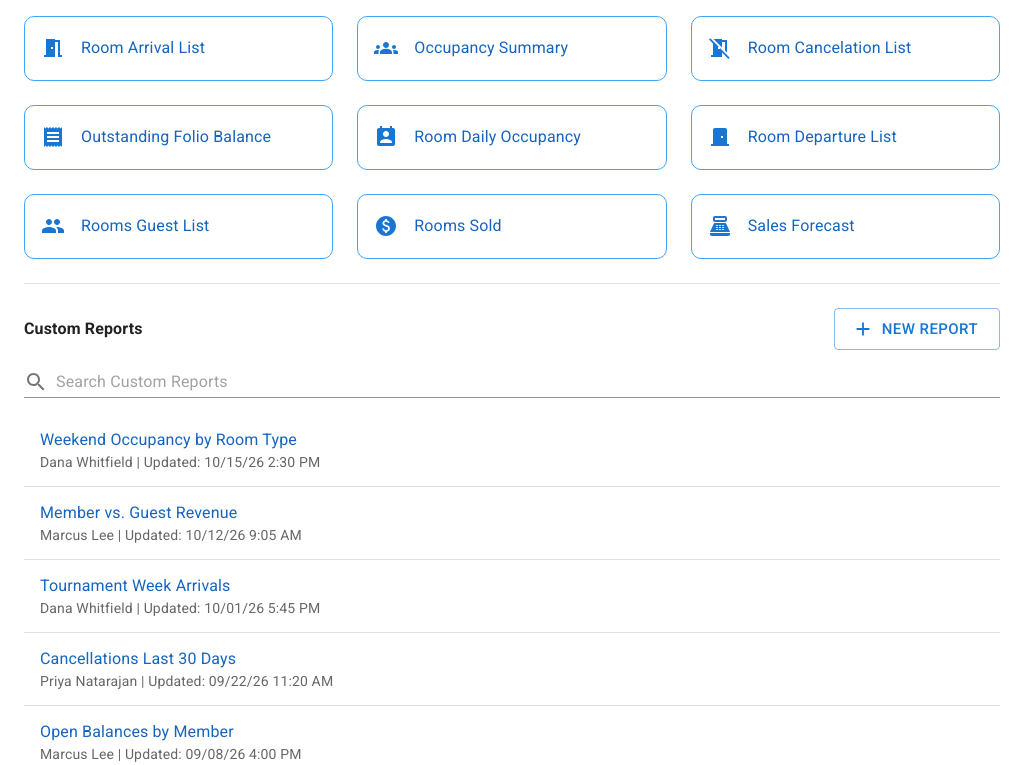
Reporting landing › filters as you type and shows a no-match state
The width and height of the screenshot is (1024, 765).
(page scrolled)
Step 1. Type "cancel" into the field labelled "Search Custom Reports" → (528, 382), box [56,366,1000,398]
(page scrolled)
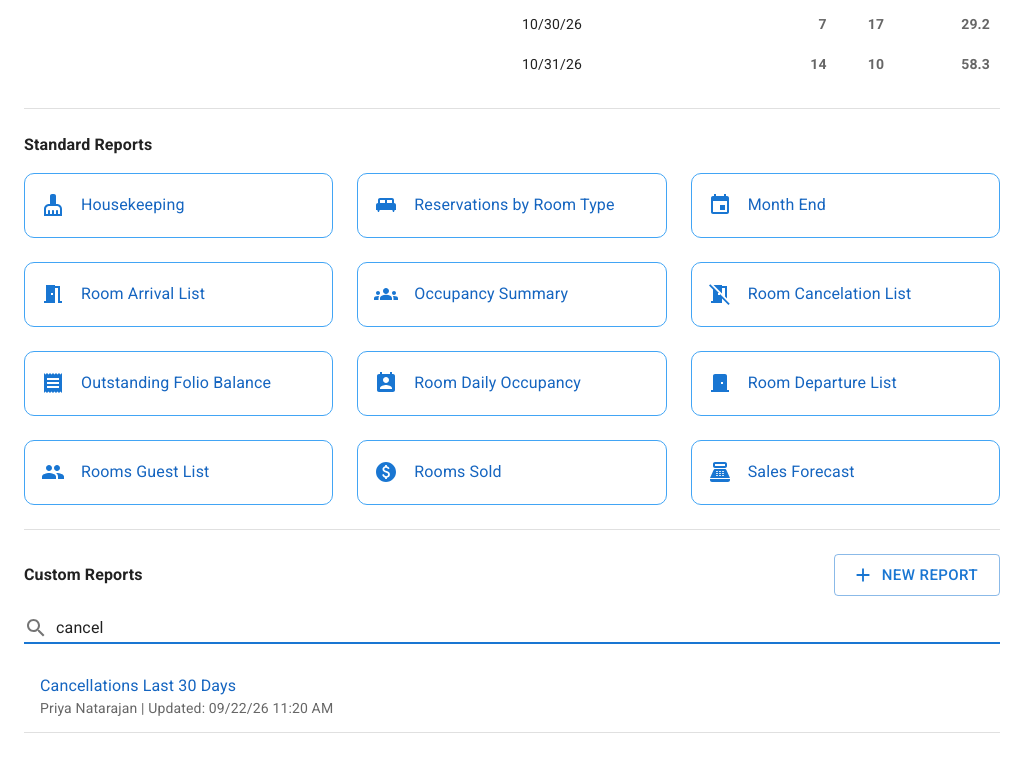
Step 2. Clear the field named "Search Custom Reports" → (528, 628), box [56,612,1000,644]
(page scrolled)
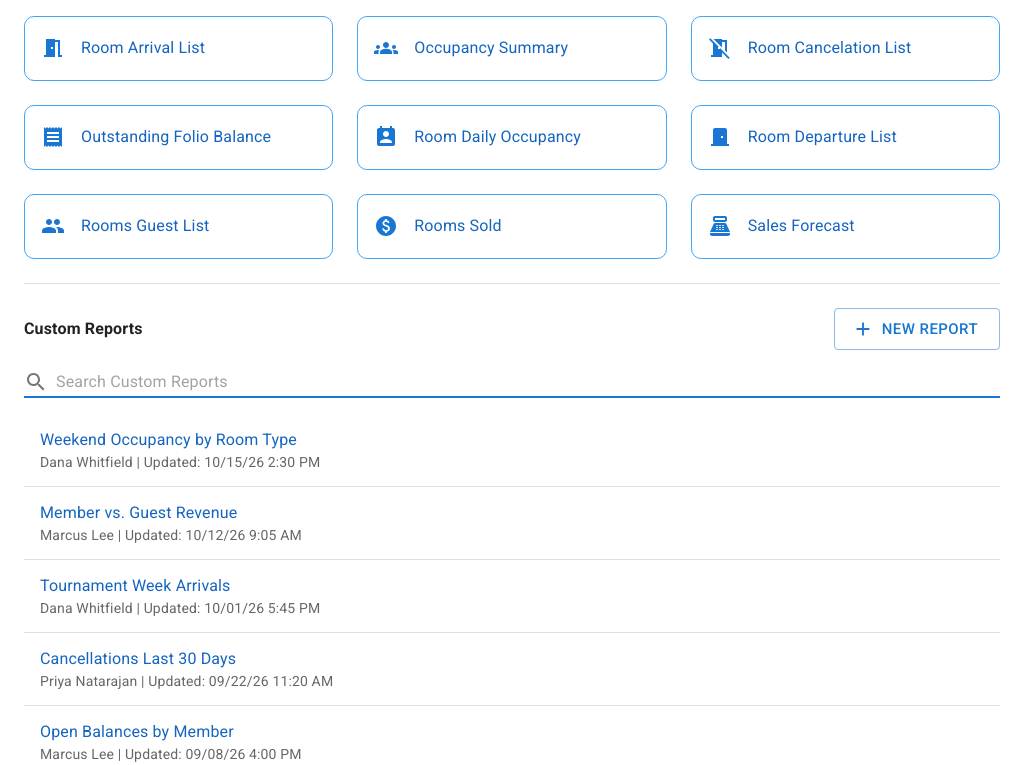
Step 3. Type "zzz" into the field labelled "Search Custom Reports" → (528, 382), box [56,366,1000,398]
(page scrolled)
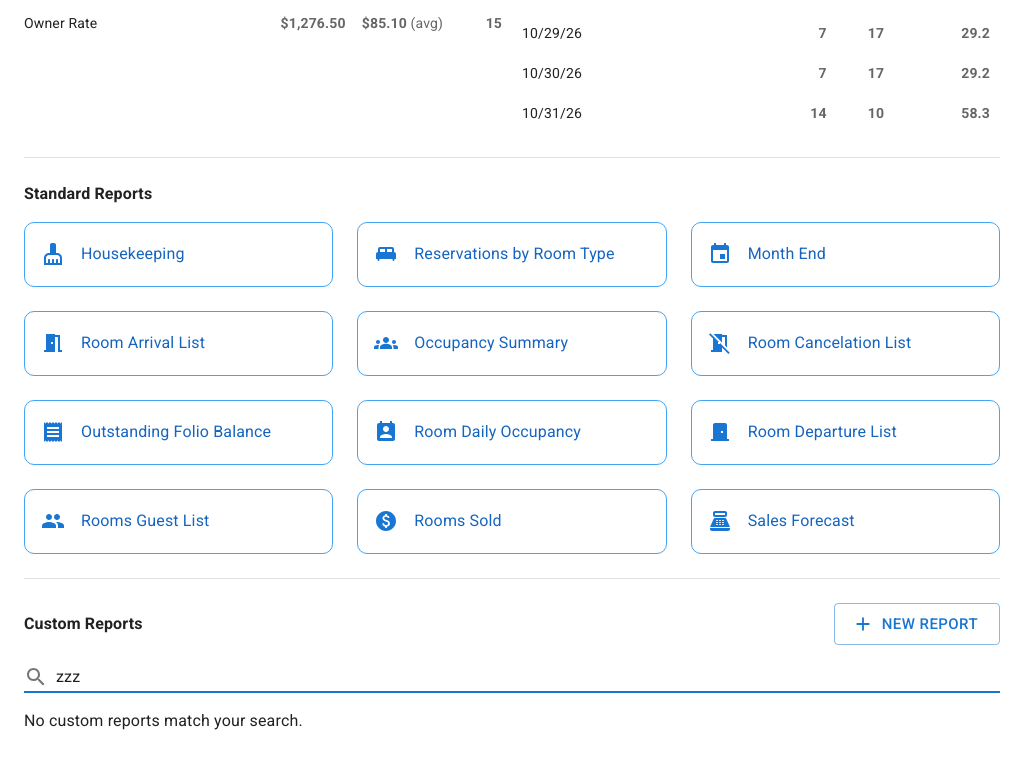
Check: the text "No custom reports match your search." is shown, box [24,711,303,730]
